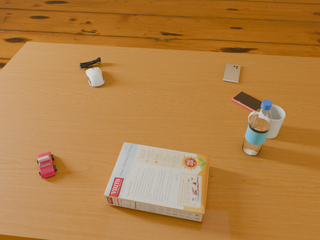bottle: (242, 100, 272, 155)
box: (104, 143, 210, 222)
cup: (248, 104, 285, 138)
mouse: (86, 68, 104, 87)
phone: (232, 92, 262, 112), (223, 64, 240, 83)
toy_car: (37, 152, 57, 179)
